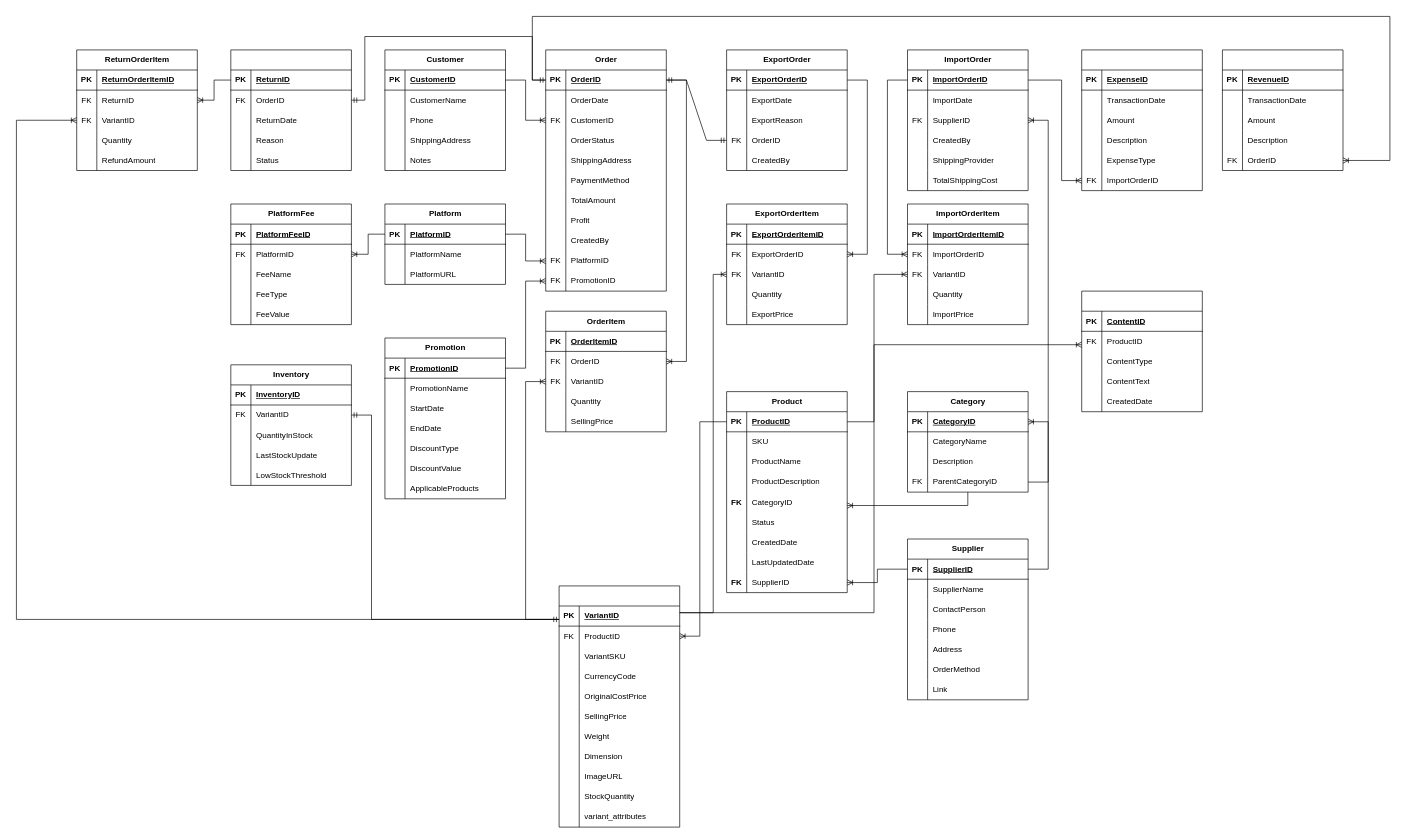
Some shapes in this 1407 by 839 pixel diagram are drawn without their labels. The shapes that lost their labels are listed below. From the top down, each one's box as (x1, y1, x2, y2) in pixels, then its label:
(230, 49, 351, 171): ReturnOrder
(1081, 49, 1202, 191): ExpenseTransaction
(1222, 49, 1343, 171): RevenueTransaction
(1081, 290, 1202, 412): MarketingContent
(558, 585, 680, 827): ProductVariant
